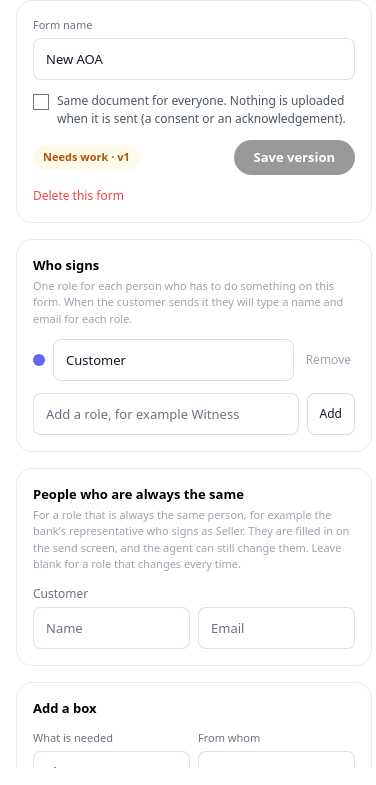
SignFormEditor › marks a form as one standard document, sent with no upload, and saves that with the layout
Click the checkbox labelled "Same document for everyone".
click(41, 102)  # box [33,94,49,110]
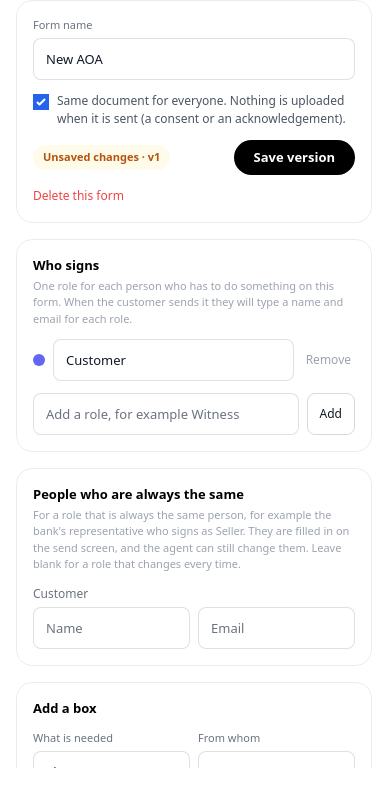
Check: the button "Save version" is enabled
Click the button "Save version".
click(294, 157)  # box [234,140,355,175]
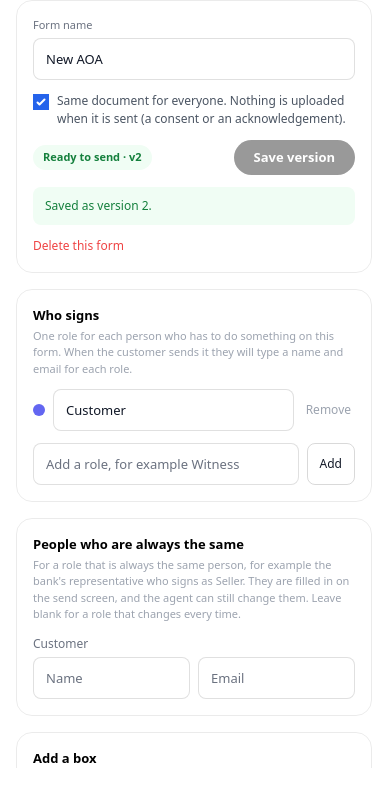
Check: the text "Saved as version 2." is shown, box [45,197,152,214]
